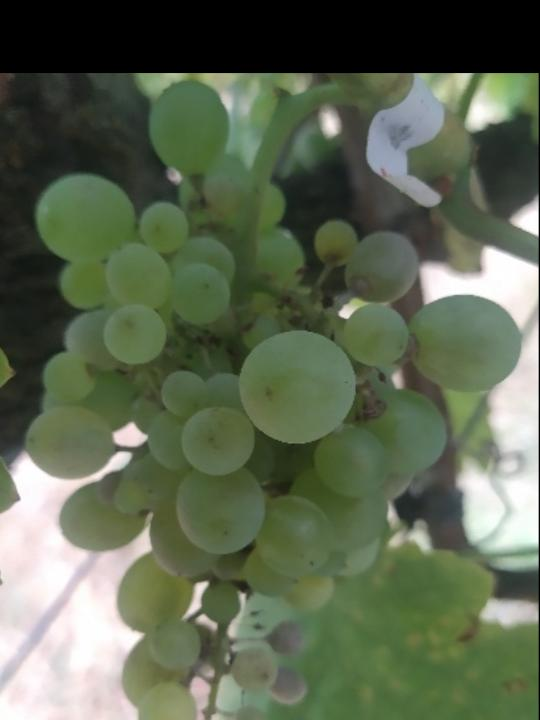grape: (28, 77, 526, 720)
